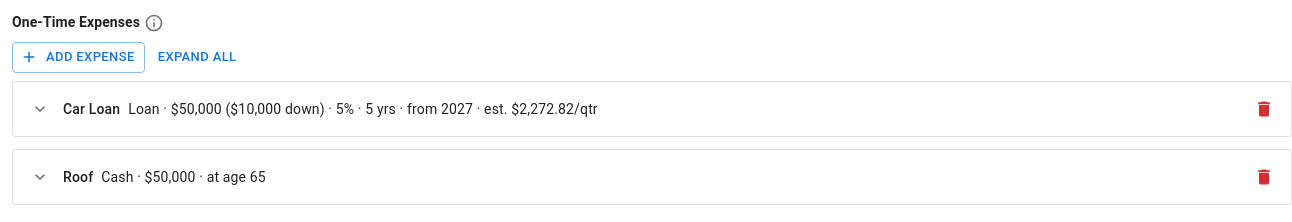
OneTimeExpenseInput › editing and removing (US003-4, T003-066–T003-069) › T003-068 removes only the chosen expense
Step 1. Click the button named "Remove Car Loan" → (1264, 109), box [1249, 94, 1279, 124]
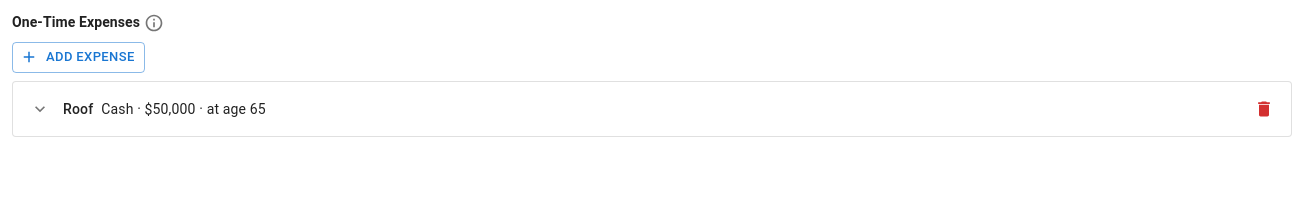
Expected: the text "Car Loan" is gone
